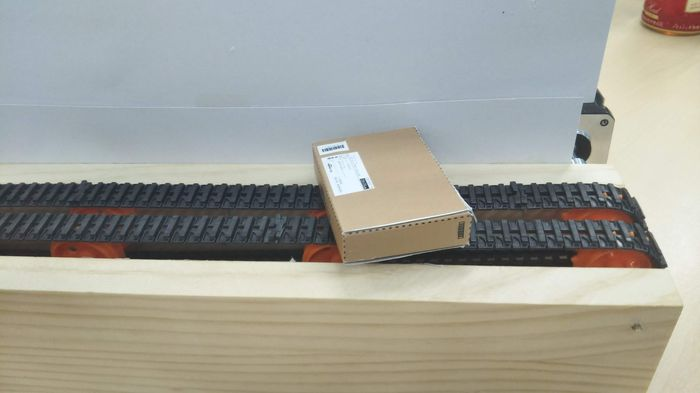box2: (306, 120, 483, 266)
